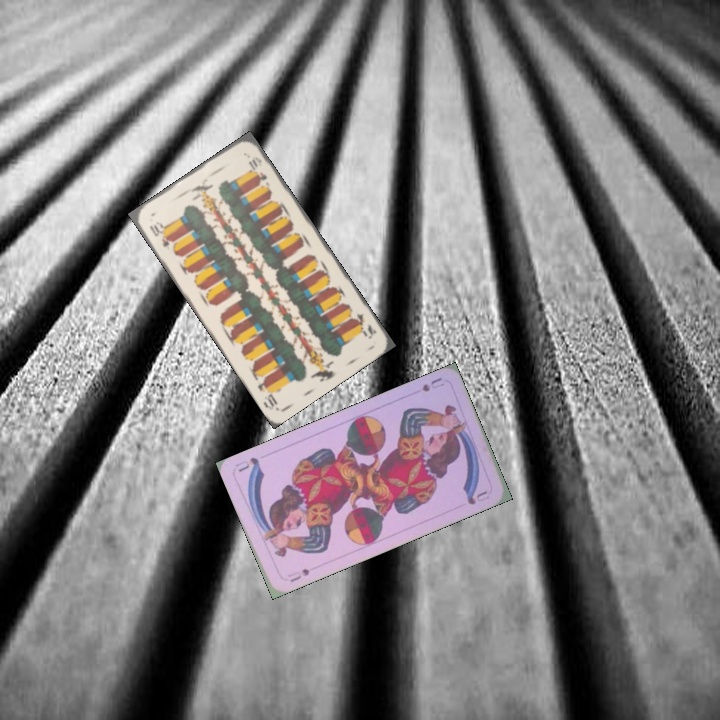E10: (346, 307, 379, 342), (145, 218, 173, 250)
SU: (418, 373, 447, 394), (286, 564, 312, 585)
